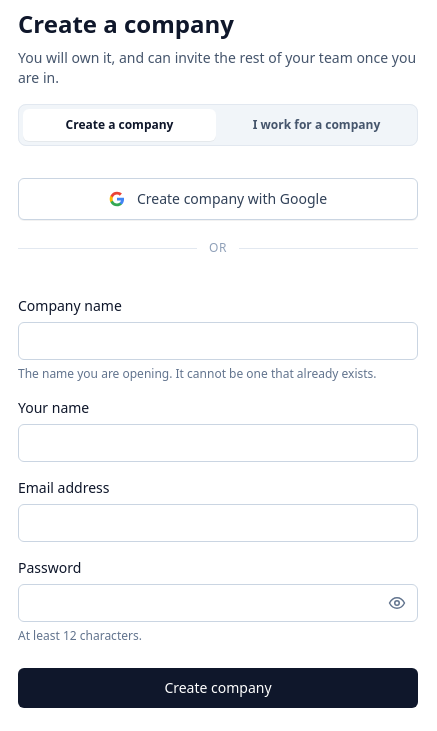
Test: SignUpPage › surfaces a failure that belongs to no particular field
In the field labelled "Company name": (218, 341) [18,322,418,360], type "Northwind Trading"
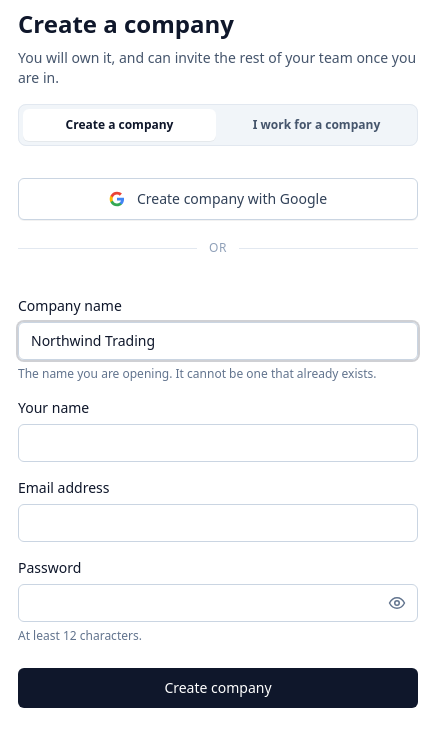
In the field labelled "Your name": (218, 443) [18,424,418,462], type "Ada Okafor"
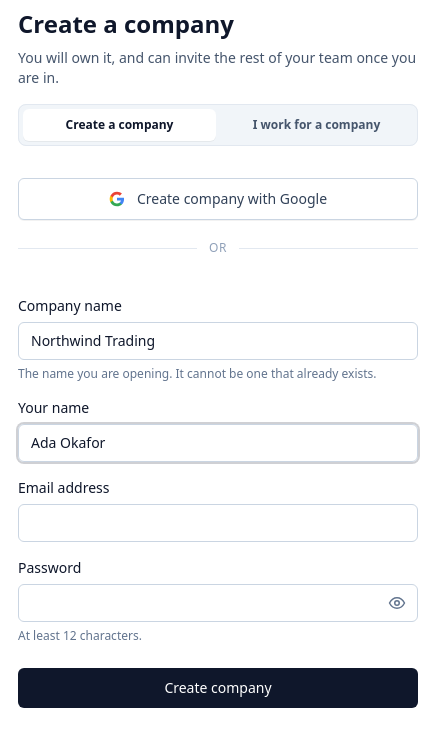
In the field labelled "Email address": (218, 523) [18,504,418,542], type "ada@northwind.test"
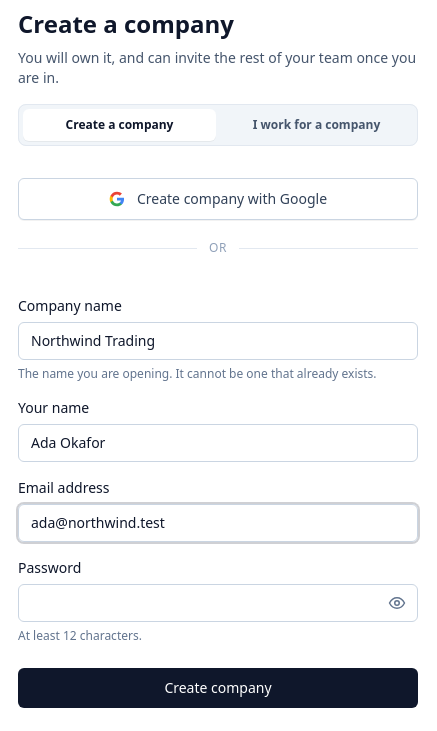
In the password field labelled "Password": (218, 603) [18,584,418,622], type "correct-horse-battery"
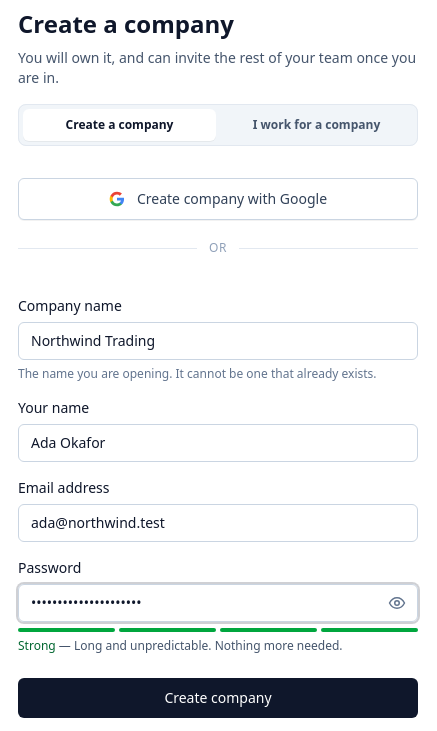
Click the button "Create company": (218, 698) [18,678,418,718]
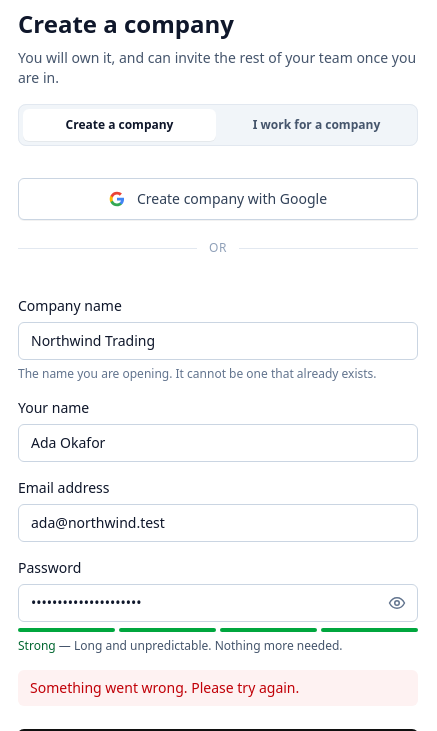
expect the message "Something went wrong. Please try again." is shown: met, box [18,670,418,706]
